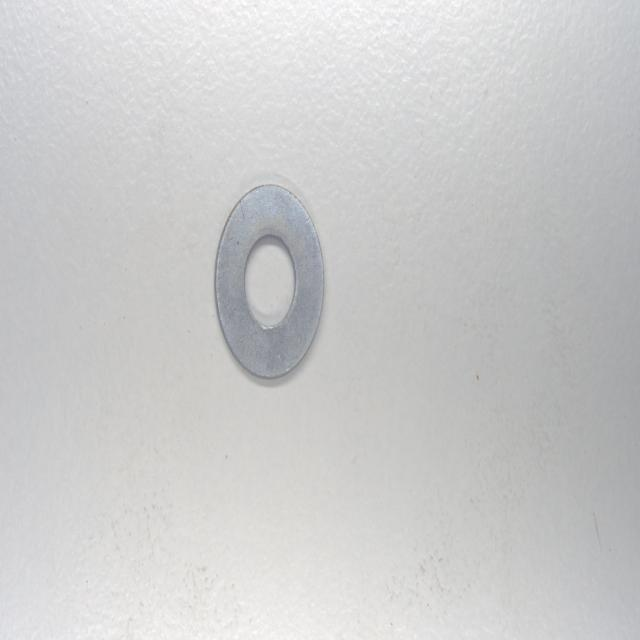washer: (213, 178, 325, 384)
